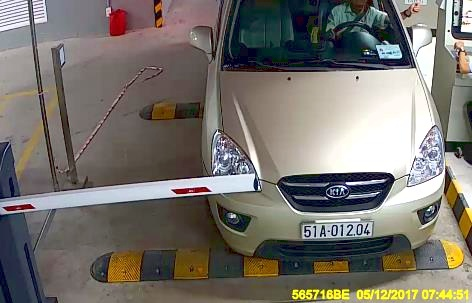plate: (301, 216, 375, 243)
